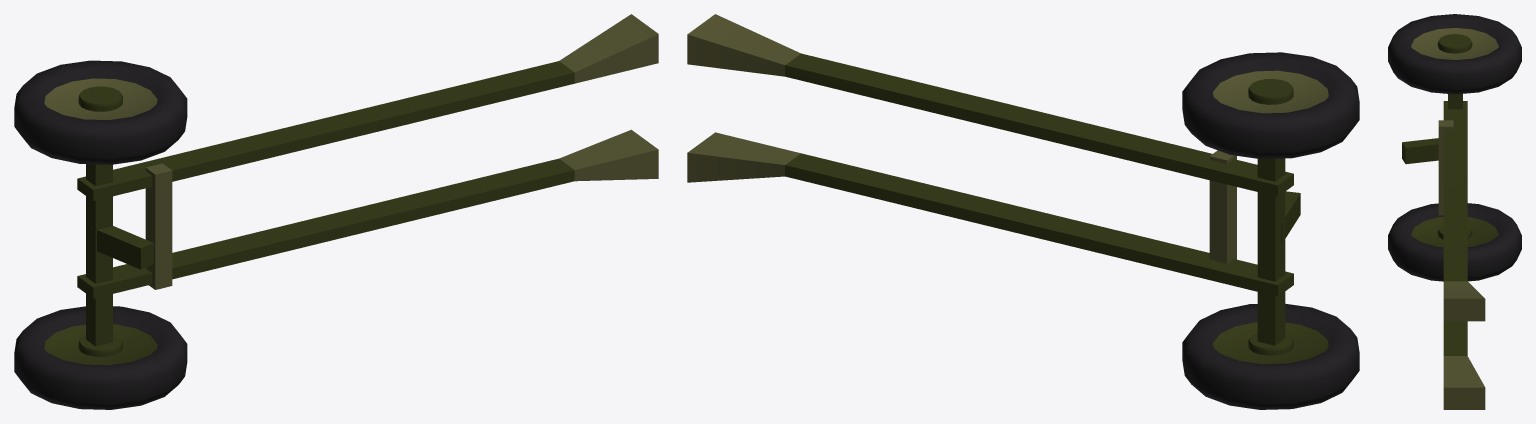
The picture shows the model from 3 angles, left to right: view 1: azimuth 30°, elevation 25°; view 2: azimuth 150°, elevation 25°; view 3: azimuth 270°, elevation 25°; orthographic projection. The views are drawn at different scales.
Parts seen in each view (by area): view 1: base bl25 pCube5, base bl25 pCube6, base bl25 pCylinder16, base bl25 pCylinder18, base bl25 pCube2, base bl25 pCube7, pCube3 base bl25; view 2: base bl25 pCube5, base bl25 pCube6, base bl25 pCylinder16, base bl25 pCylinder18, base bl25 pCube2, base bl25 pCube7, pCube3 base bl25; view 3: base bl25 pCylinder16, base bl25 pCylinder18, base bl25 pCube5, base bl25 pCube6, pCube3 base bl25, base bl25 pCube7, base bl25 pCube2.
Boxes of the visible parts, bbox=[...] form: base bl25 pCube5: bbox=[77, 14, 658, 200]; base bl25 pCube6: bbox=[77, 129, 658, 298]; base bl25 pCylinder16: bbox=[14, 60, 187, 164]; base bl25 pCylinder18: bbox=[14, 306, 187, 409]; base bl25 pCube2: bbox=[86, 164, 112, 346]; base bl25 pCube7: bbox=[145, 163, 172, 289]; pCube3 base bl25: bbox=[91, 226, 153, 269]; base bl25 pCube5: bbox=[687, 14, 1293, 196]; base bl25 pCube6: bbox=[687, 132, 1293, 296]; base bl25 pCylinder16: bbox=[1182, 52, 1359, 158]; base bl25 pCylinder18: bbox=[1182, 303, 1359, 409]; base bl25 pCube2: bbox=[1257, 158, 1285, 345]; base bl25 pCube7: bbox=[1209, 150, 1236, 263]; pCube3 base bl25: bbox=[1281, 191, 1300, 244]; base bl25 pCylinder16: bbox=[1388, 14, 1521, 94]; base bl25 pCylinder18: bbox=[1388, 203, 1521, 281]; base bl25 pCube5: bbox=[1443, 101, 1485, 321]; base bl25 pCube6: bbox=[1443, 321, 1485, 409]; pCube3 base bl25: bbox=[1402, 138, 1438, 164]; base bl25 pCube7: bbox=[1438, 120, 1453, 215]; base bl25 pCube2: bbox=[1448, 94, 1462, 109].
Bounding box in the file's own units: 15.78 × 6.79 × 3.81.
